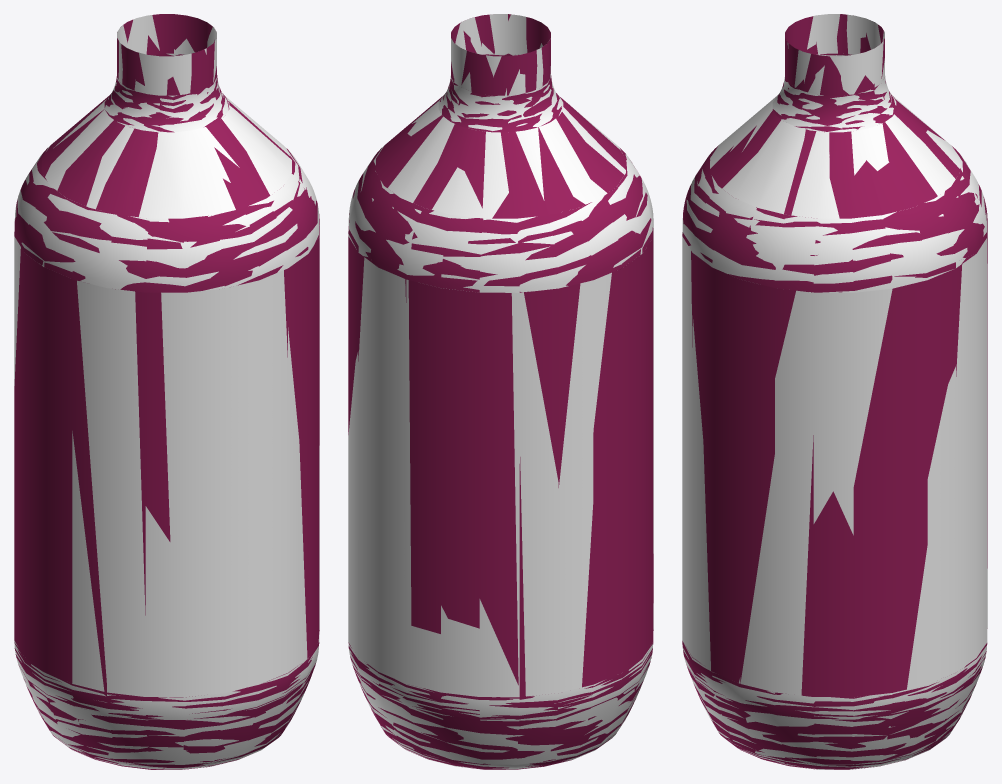
The model's file is original_2.obj.
The picture shows the model from 3 angles, left to right: view 1: azimuth 30°, elevation 25°; view 2: azimuth 150°, elevation 25°; view 3: azimuth 270°, elevation 25°; orthographic projection.
Parts seen in each view (by area): view 1: #ID249; view 2: #ID249; view 3: #ID249.
Boxes of the visible parts, left/top/right/bottom form: #ID249: left=14, top=14, right=319, bottom=769; #ID249: left=348, top=14, right=653, bottom=769; #ID249: left=682, top=14, right=987, bottom=769.
Size of the model in its own units: 0.5429 by 1.35 by 0.5428.
Materials: 2 (2 with a texture image).
